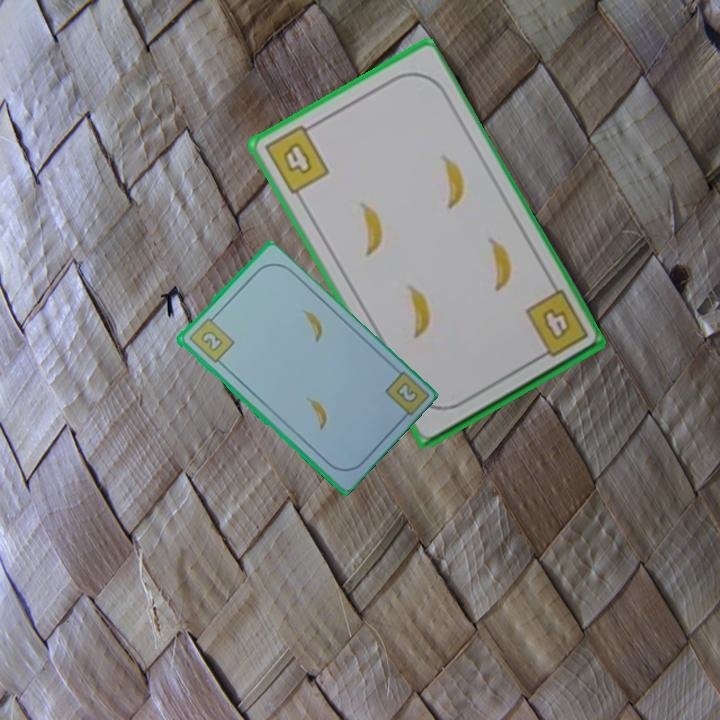2b: (185, 311, 237, 366), (392, 378, 419, 406)
4b: (260, 119, 333, 197), (521, 286, 591, 364)
